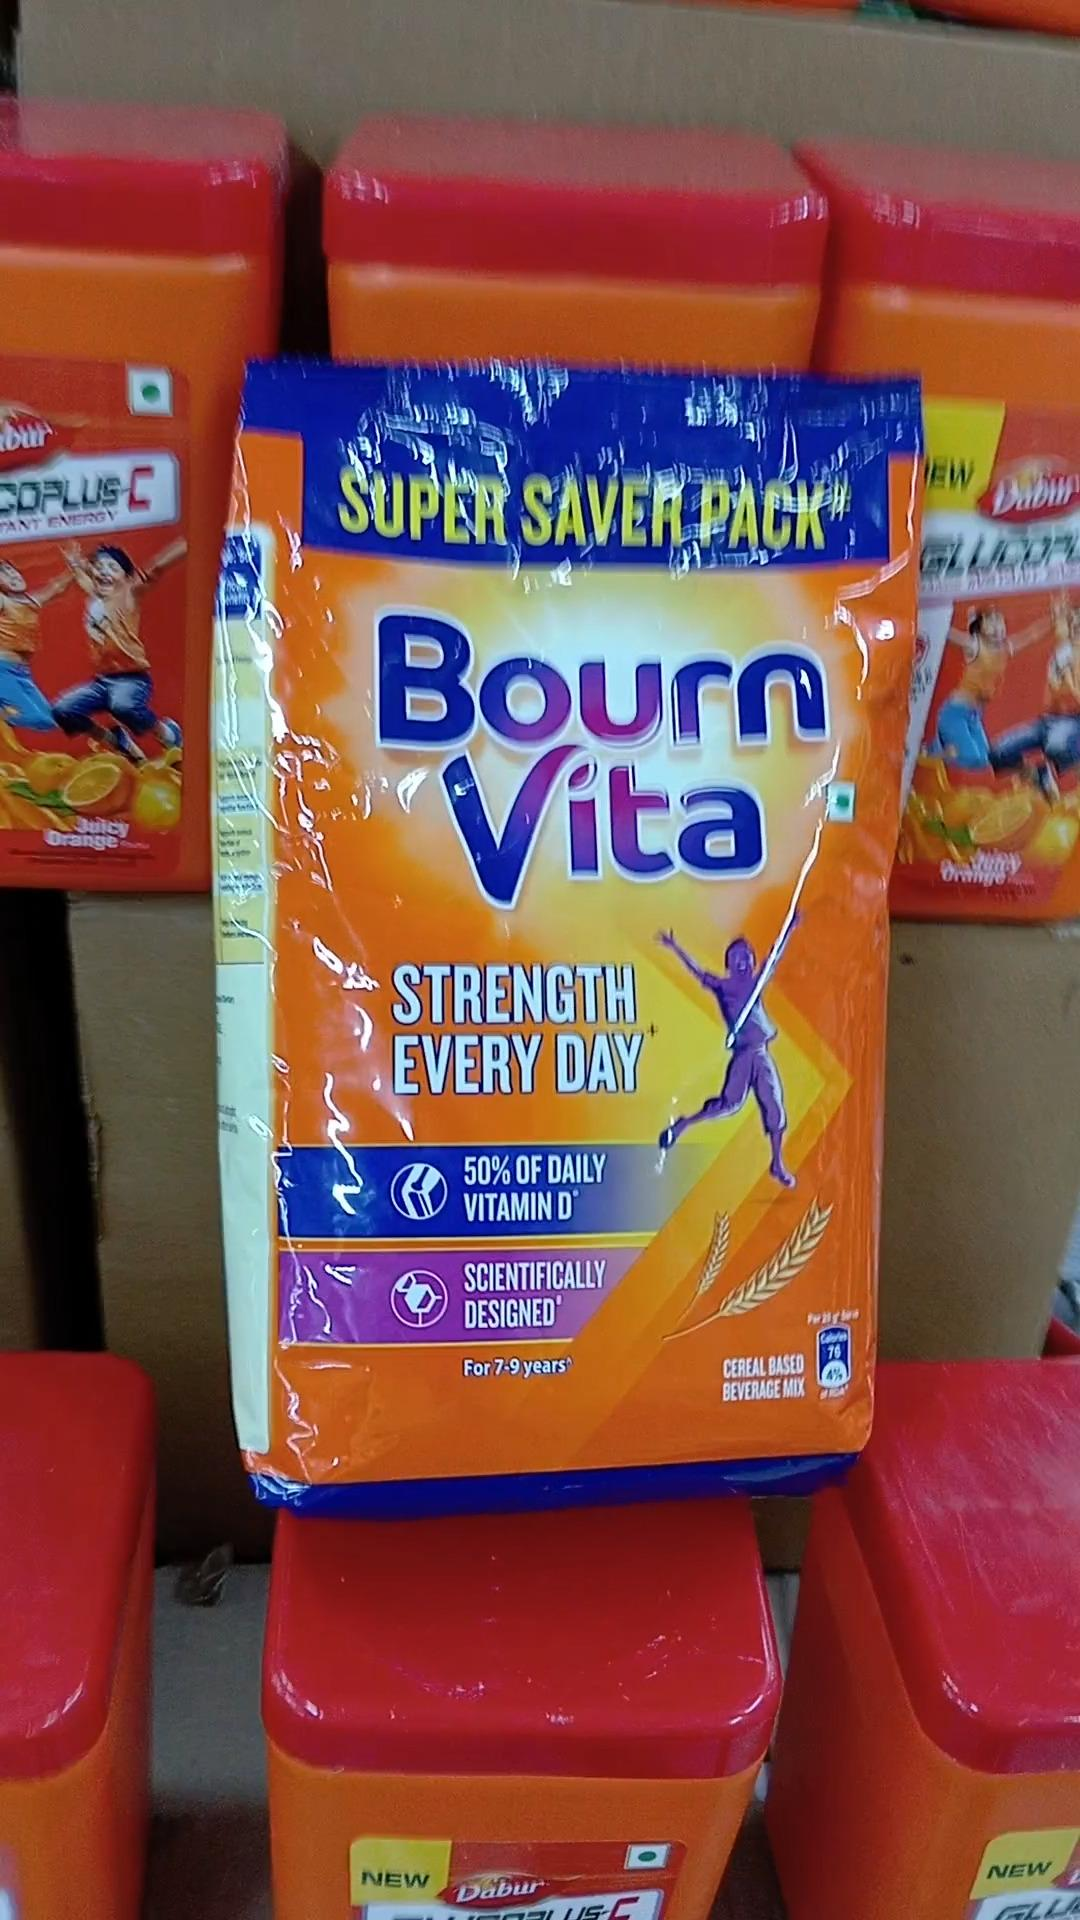BOURN_VITA_1_KG_POUCH: (222, 349, 884, 1520)
